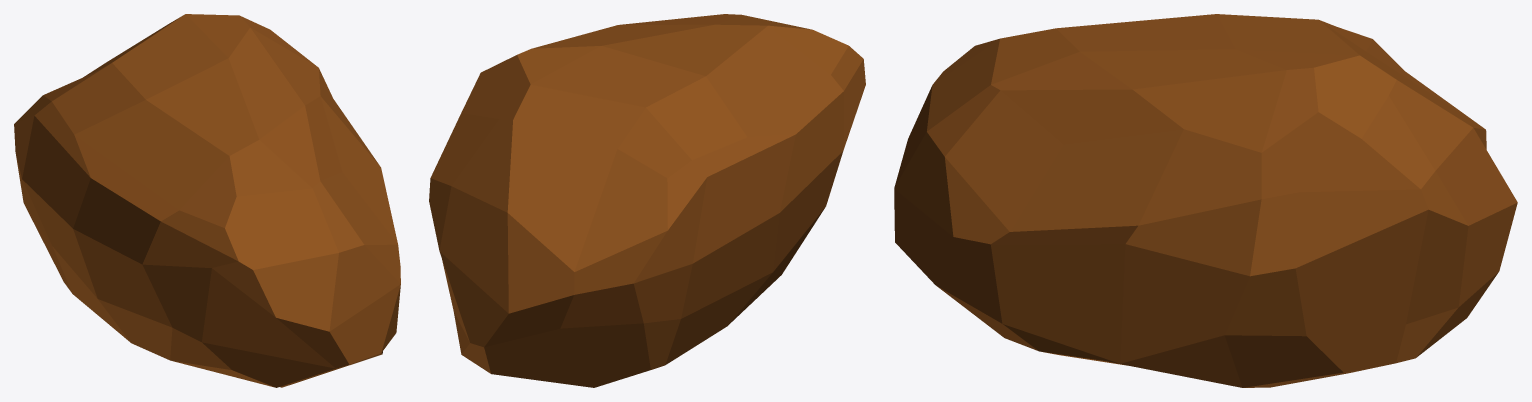
The model's file is HardRock_32.fbx.
3 views of the same model, side by side, from view 1: azimuth 30°, elevation 25°; view 2: azimuth 150°, elevation 25°; view 3: azimuth 270°, elevation 25° (orthographic). The views are drawn at different scales.
Parts seen in each view (by area): view 1: HardRock_32; view 2: HardRock_32; view 3: HardRock_32.
Boxes of the visible parts, <box> form: HardRock_32: <box>14,14,400,387</box>; HardRock_32: <box>429,14,865,387</box>; HardRock_32: <box>894,14,1517,387</box>.
Bounding box in the file's own units: 75.49 × 67.07 × 122.
